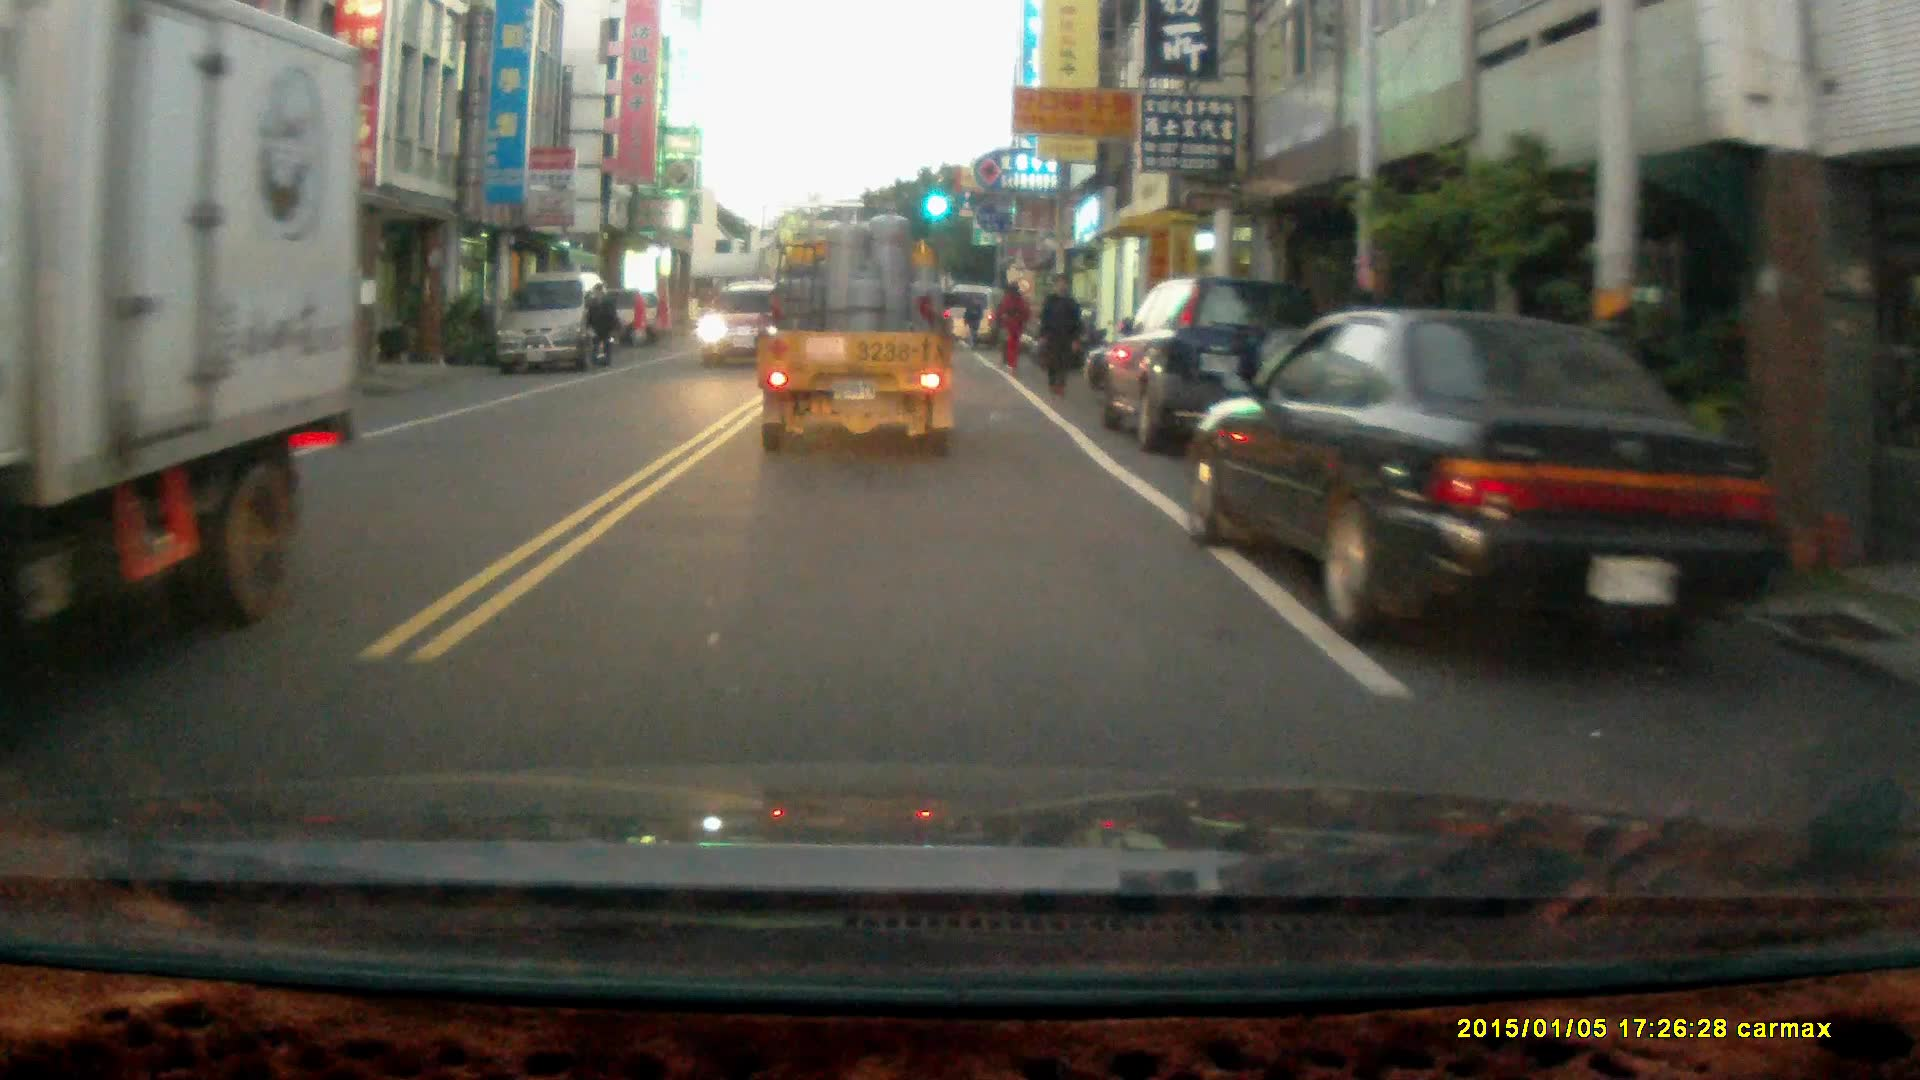pedestrian: (1033, 269, 1082, 398), (992, 278, 1029, 371), (582, 280, 617, 365), (963, 290, 984, 345)
vehicle: (1, 6, 357, 678), (1189, 306, 1782, 644), (753, 194, 962, 463), (1102, 275, 1329, 458), (496, 271, 614, 374), (693, 279, 778, 368)
